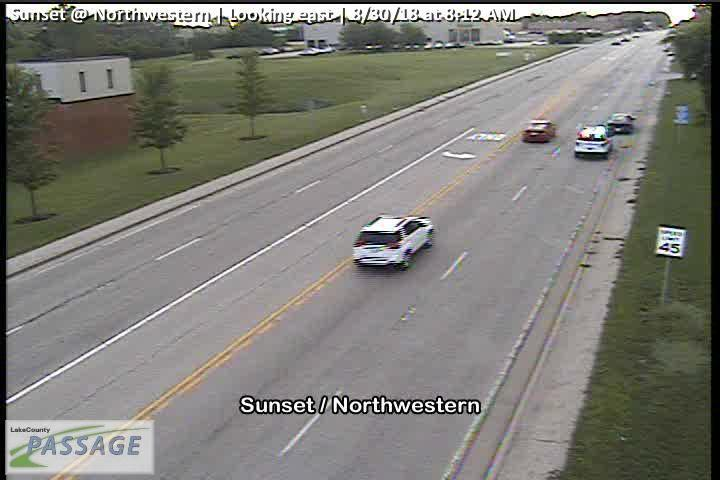SUV: (353, 215, 434, 270), (574, 126, 612, 159)
Sedan: (522, 120, 556, 143), (608, 112, 636, 134)
